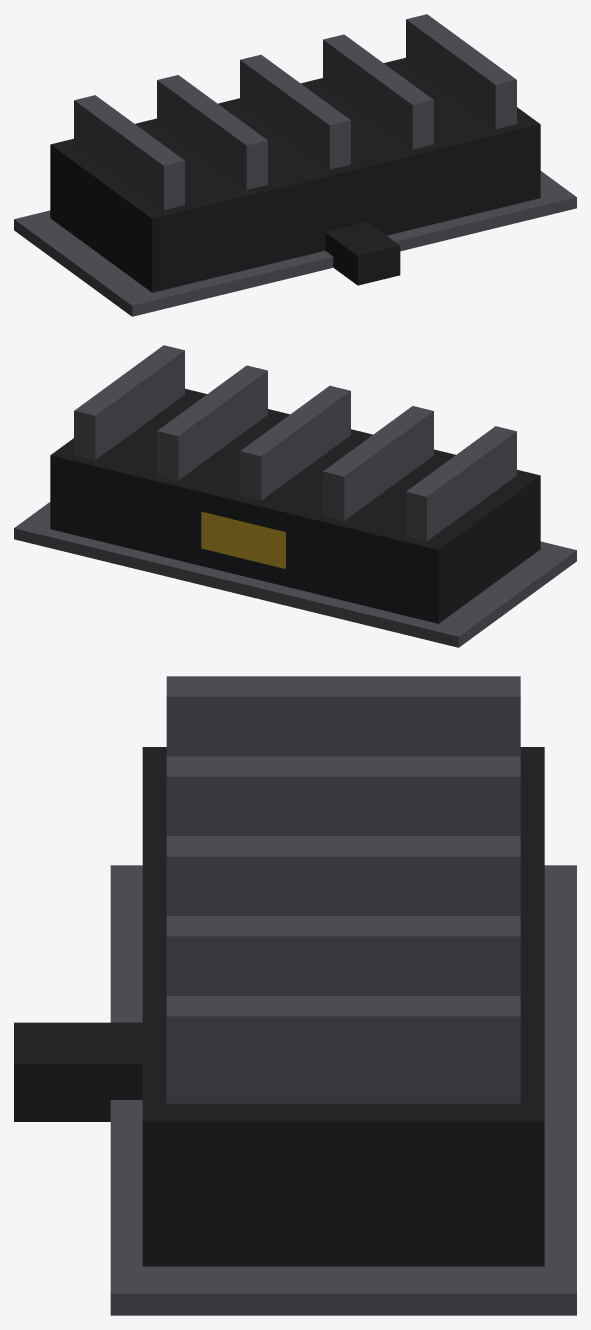
Rendered from thermal_heater.glb.
The picture shows the model from 3 angles, top to bottom: view 1: azimuth 30°, elevation 25°; view 2: azimuth 150°, elevation 25°; view 3: azimuth 270°, elevation 25°; orthographic projection. The views are drawn at different scales.
Parts seen in each view (by area): view 1: thermal_heater; view 2: thermal_heater; view 3: thermal_heater.
Boxes of the visible parts, <box> form: thermal_heater: <box>14,14,576,316</box>; thermal_heater: <box>14,345,576,647</box>; thermal_heater: <box>14,676,576,1315</box>.
Size of what is drawn, in the model's own units: 0.126 by 0.035 by 0.07.
